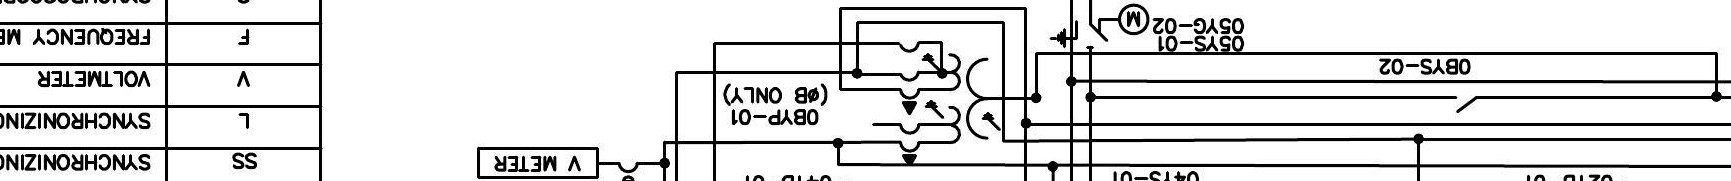115_3ways_ds_w_motor: (1049, 2, 1150, 50)
115_ds: (1453, 95, 1479, 114)
115_vt_1p: (898, 52, 1002, 167)
v_m_digital: (476, 146, 601, 181)
